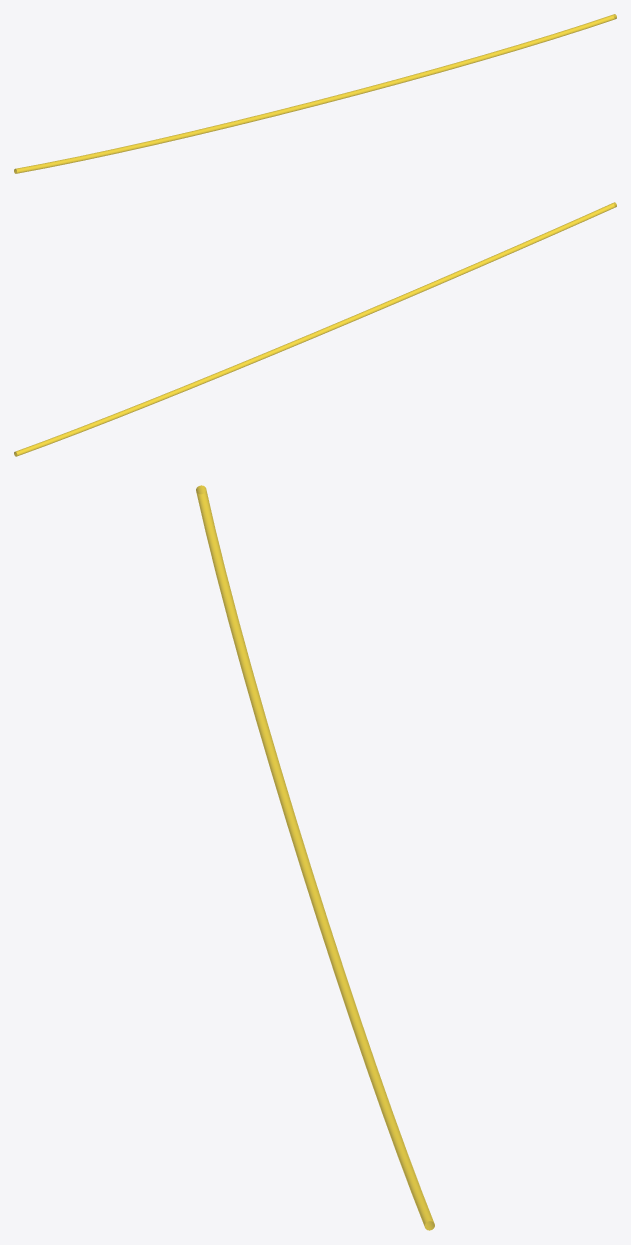
Rendered from Event_17758602_track_54.fbx.
The picture shows the model from 3 angles, top to bottom: view 1: azimuth 30°, elevation 25°; view 2: azimuth 210°, elevation 25°; view 3: azimuth 270°, elevation 25°; orthographic projection. The views are drawn at different scales.
Parts seen in each view (by area): view 1: Model; view 2: Model; view 3: Model.
Part boxes in pixels (<box>): Model: <box>14,14,616,173</box>; Model: <box>14,202,616,456</box>; Model: <box>196,485,434,1230</box>.
Size of the model in its own units: 5.82 by 0.4405 by 0.9156.
